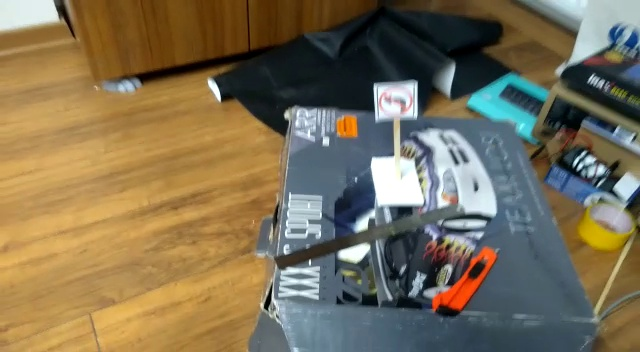sola_donulmez: (377, 84, 414, 117)
